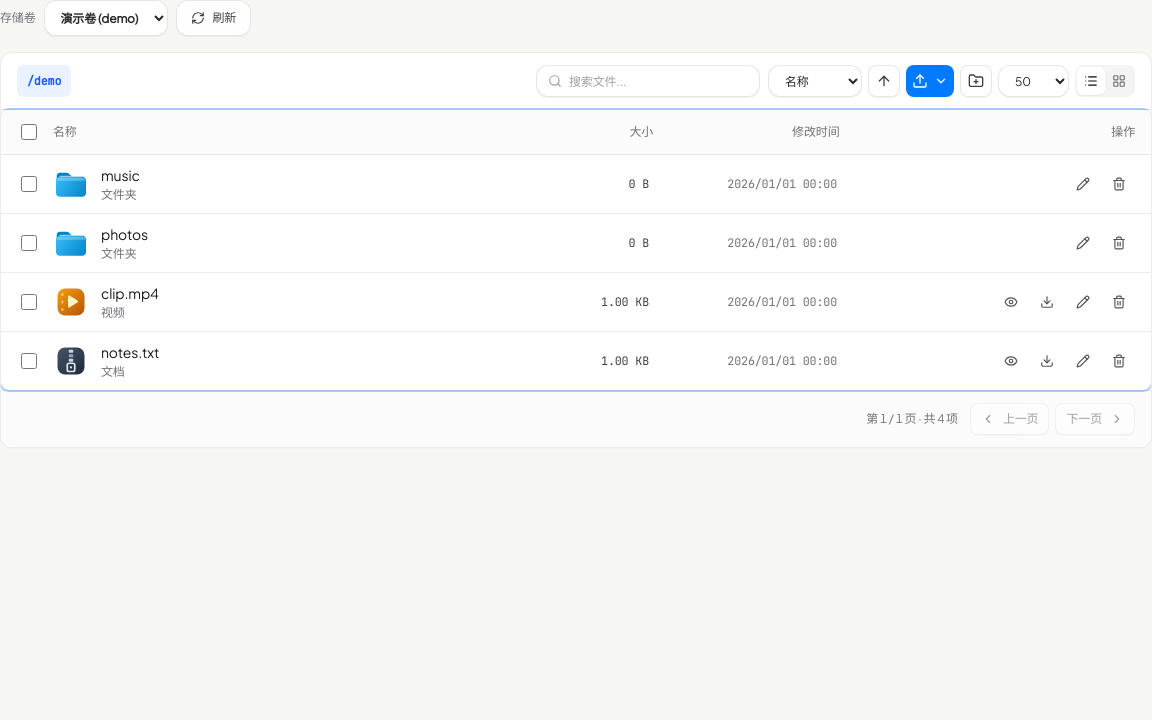
Test: FilesView 键盘操作 › Delete 打开删除确认框，取消不触发删除回调
The width and height of the screenshot is (1152, 720).
Press Arrowdown
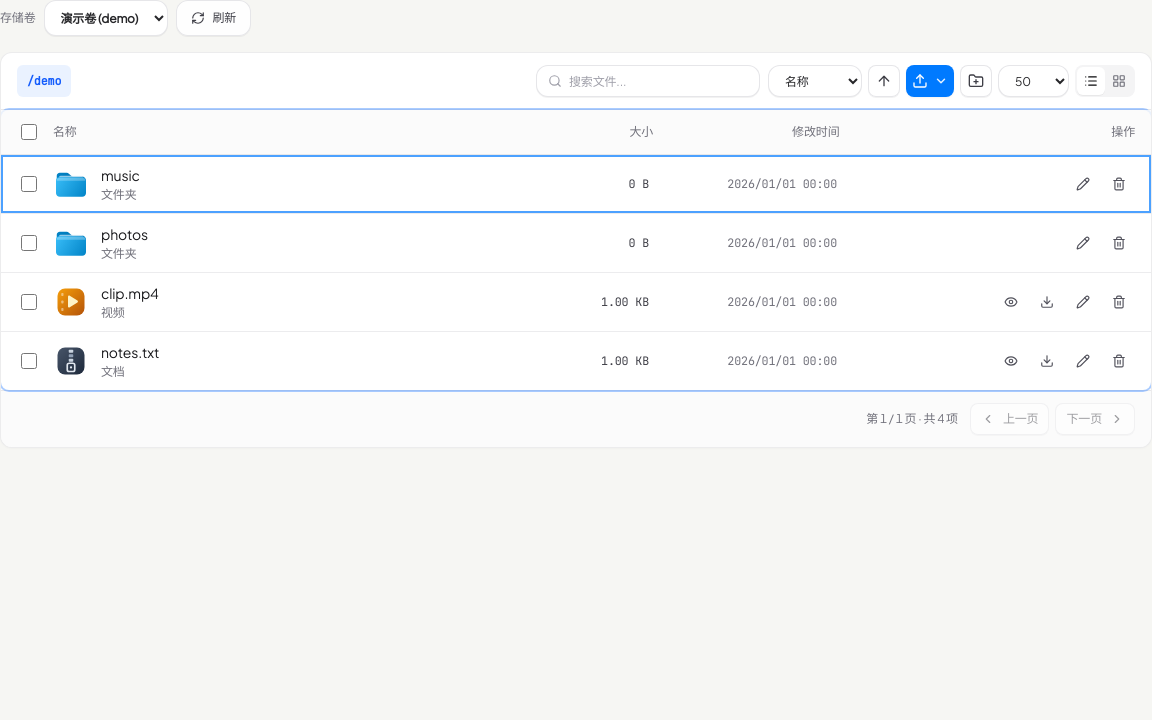
Press Delete
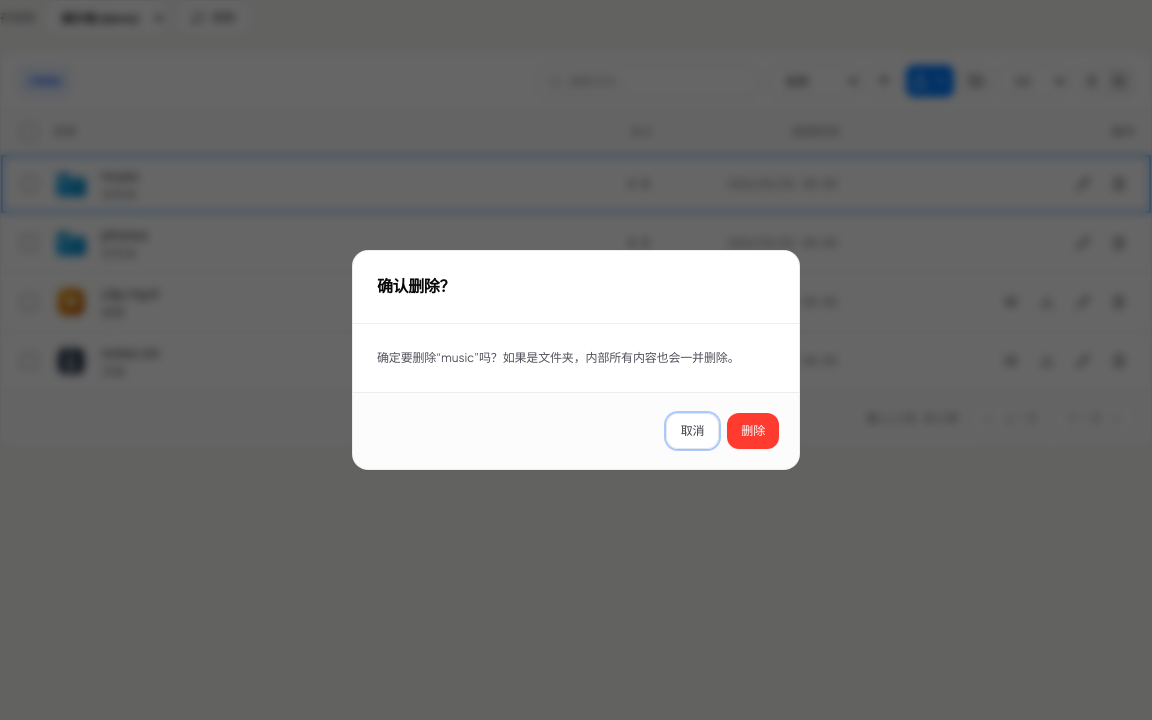
Now the dialog is shown, box x1=352 y1=250 x2=800 y2=470
Click the button "取消" at (692, 431), box x1=666 y1=413 x2=719 y2=449
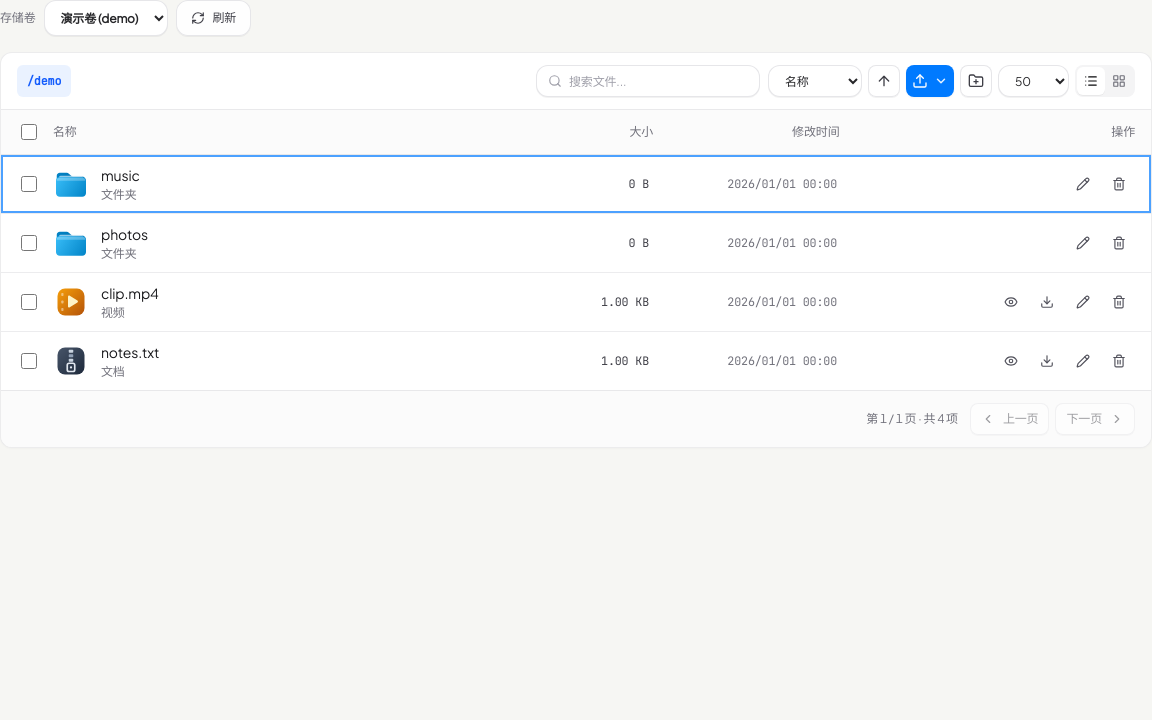
Now the dialog is gone
